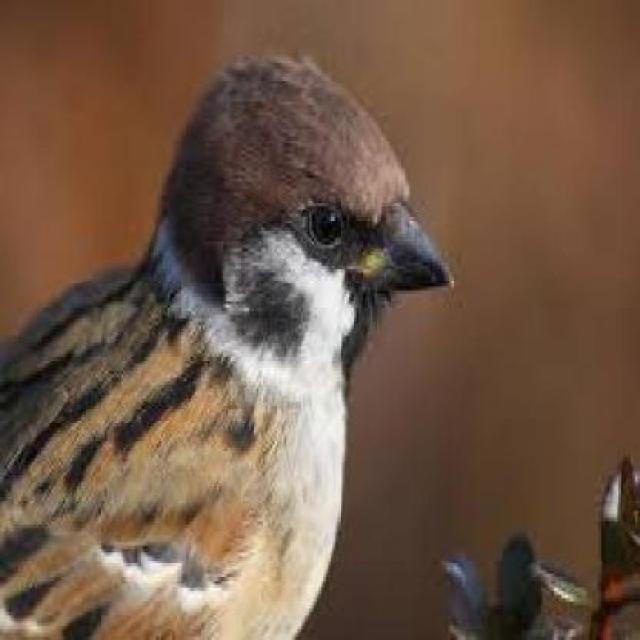sparrow: (5, 44, 454, 640)
